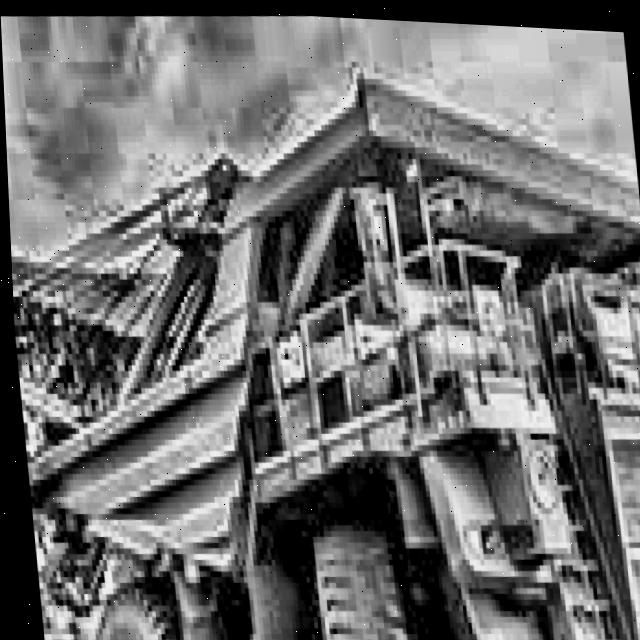dump_truck: (0, 6, 640, 640)
